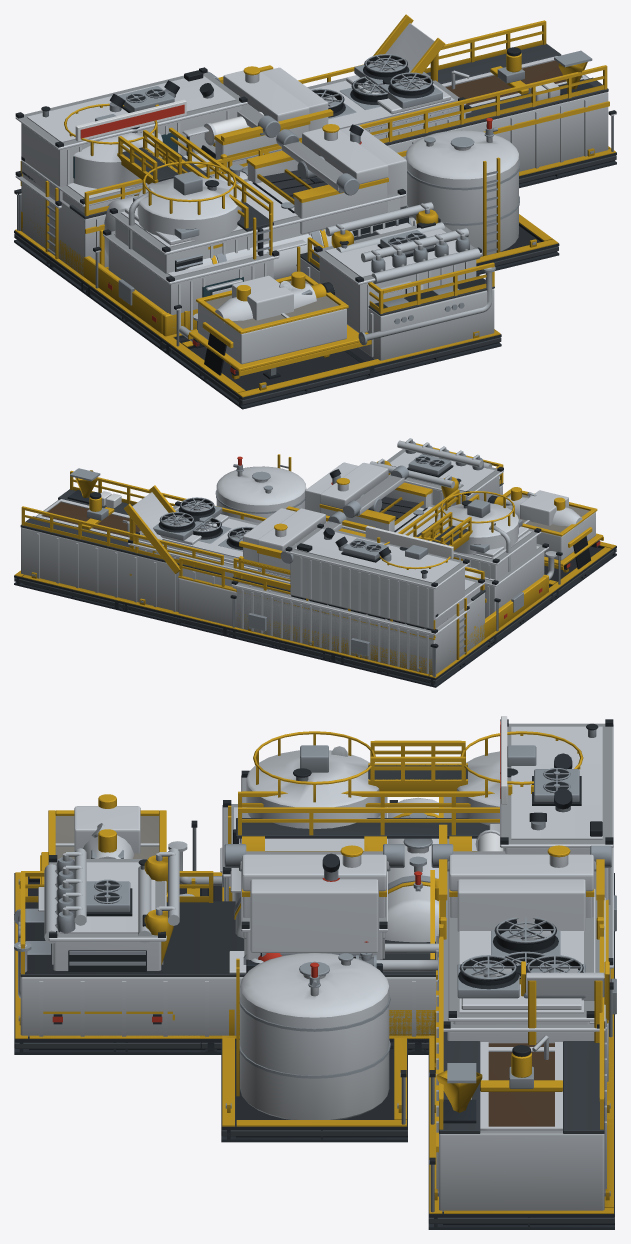
File: pieces.glb
3 renders of one model, top to bottom at view 1: azimuth 30°, elevation 25°; view 2: azimuth 150°, elevation 25°; view 3: azimuth 270°, elevation 25°, orthographic. The views are drawn at different scales.
Parts seen in each view (by area): view 1: piece_L, piece_J, piece_I4, piece_V, piece_Z, piece_S, piece_O, piece_T, piece_I3; view 2: piece_V, piece_I4, piece_I3, piece_J, piece_L, piece_S, piece_O, piece_Z, piece_T; view 3: piece_J, piece_L, piece_I4, piece_Z, piece_V, piece_O, piece_S, piece_T, piece_I3.
Boxes of the visible parts, x1=… form: piece_L: x1=14, y1=103, x2=501, y2=409; piece_J: x1=171, y1=66, x2=494, y2=404; piece_I4: x1=22, y1=20, x2=616, y2=290; piece_V: x1=15, y1=67, x2=279, y2=349; piece_Z: x1=204, y1=65, x2=559, y2=274; piece_S: x1=93, y1=54, x2=465, y2=344; piece_O: x1=15, y1=127, x2=411, y2=351; piece_T: x1=20, y1=76, x2=471, y2=289; piece_I3: x1=14, y1=14, x2=445, y2=293; piece_V: x1=230, y1=523, x2=553, y2=674; piece_I4: x1=14, y1=468, x2=488, y2=684; piece_I3: x1=122, y1=485, x2=491, y2=687; piece_J: x1=231, y1=438, x2=612, y2=660; piece_L: x1=339, y1=449, x2=616, y2=685; piece_S: x1=133, y1=469, x2=549, y2=656; piece_O: x1=230, y1=489, x2=553, y2=687; piece_Z: x1=215, y1=454, x2=374, y2=628; piece_T: x1=128, y1=517, x2=491, y2=676; piece_J: x1=20, y1=806, x2=613, y2=1054; piece_L: x1=14, y1=731, x2=614, y2=1054; piece_I4: x1=428, y1=797, x2=614, y2=1229; piece_Z: x1=221, y1=824, x2=610, y2=1142; piece_V: x1=220, y1=716, x2=616, y2=1037; piece_O: x1=221, y1=791, x2=614, y2=1054; piece_S: x1=230, y1=770, x2=614, y2=1124; piece_T: x1=222, y1=753, x2=605, y2=1126; piece_I3: x1=428, y1=873, x2=614, y2=1126.
Bounding box in the file's own units: 3.9 × 0.997 × 2.91.
